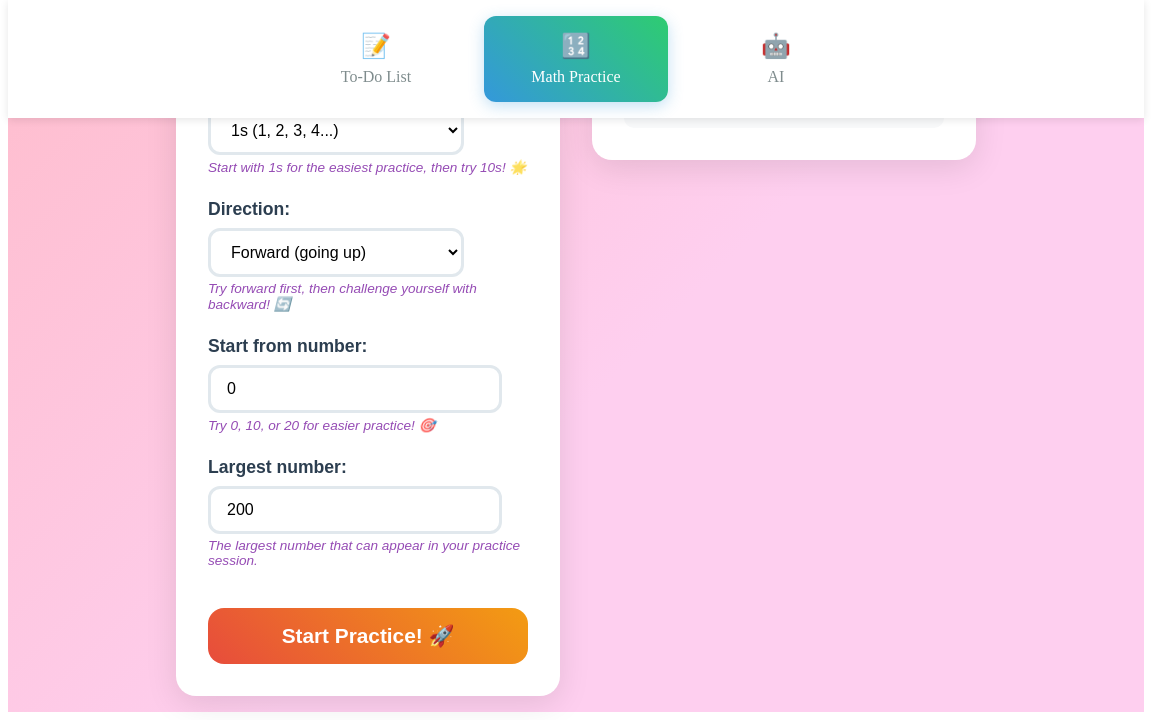
Test: Math Practice App › Math Practice Settings › should allow setting start number
(page scrolled)
Replace the text in the number field with id "startNumber" with "50": [355, 389] box [208, 365, 502, 413]
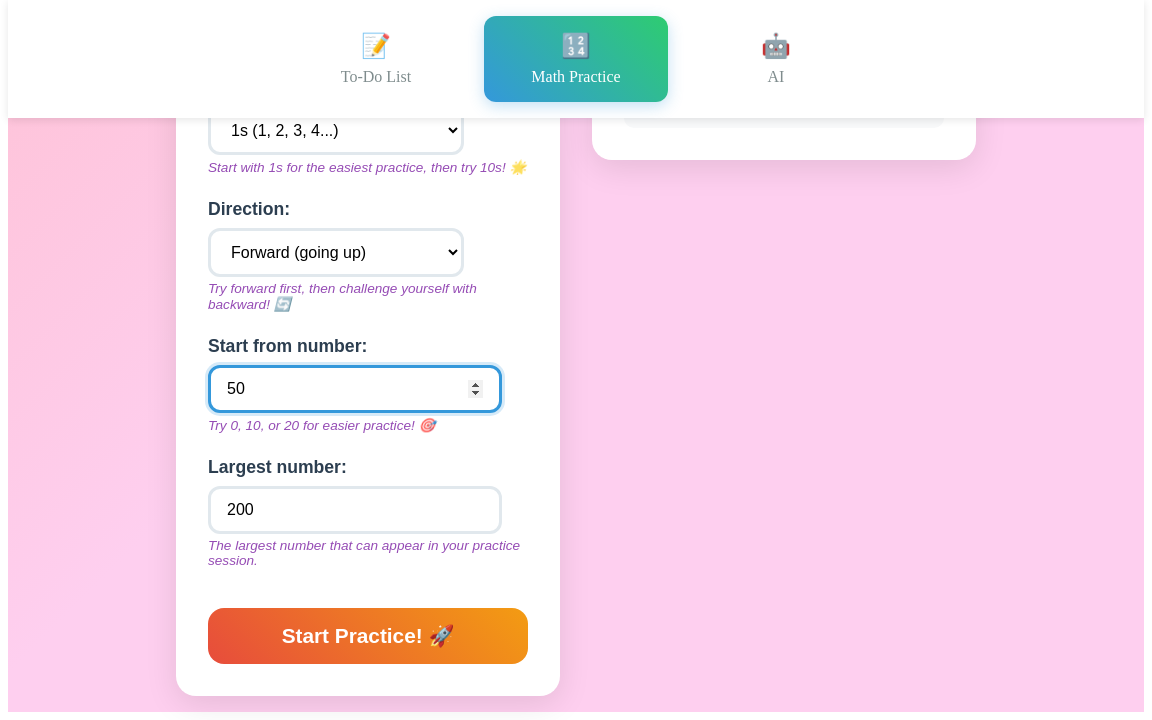
Expected: the number field with id "startNumber" holds "50", [208, 365, 502, 413]
